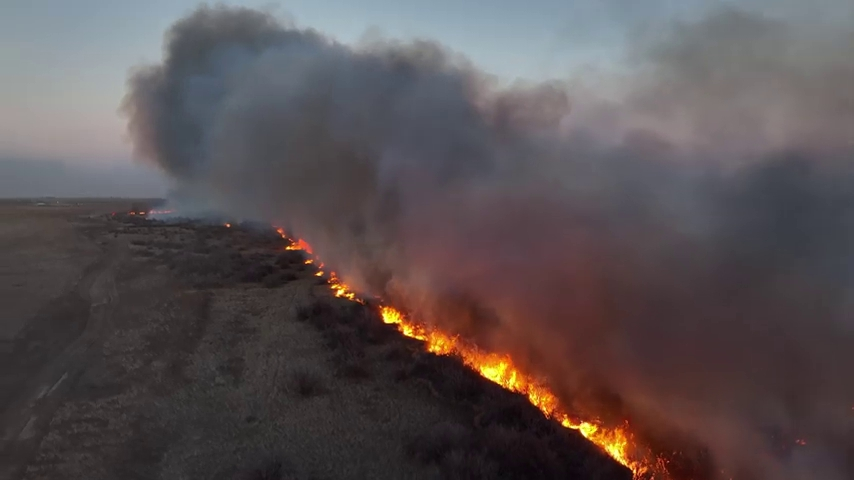forest_fire: (377, 303, 668, 479), (276, 227, 363, 302)
